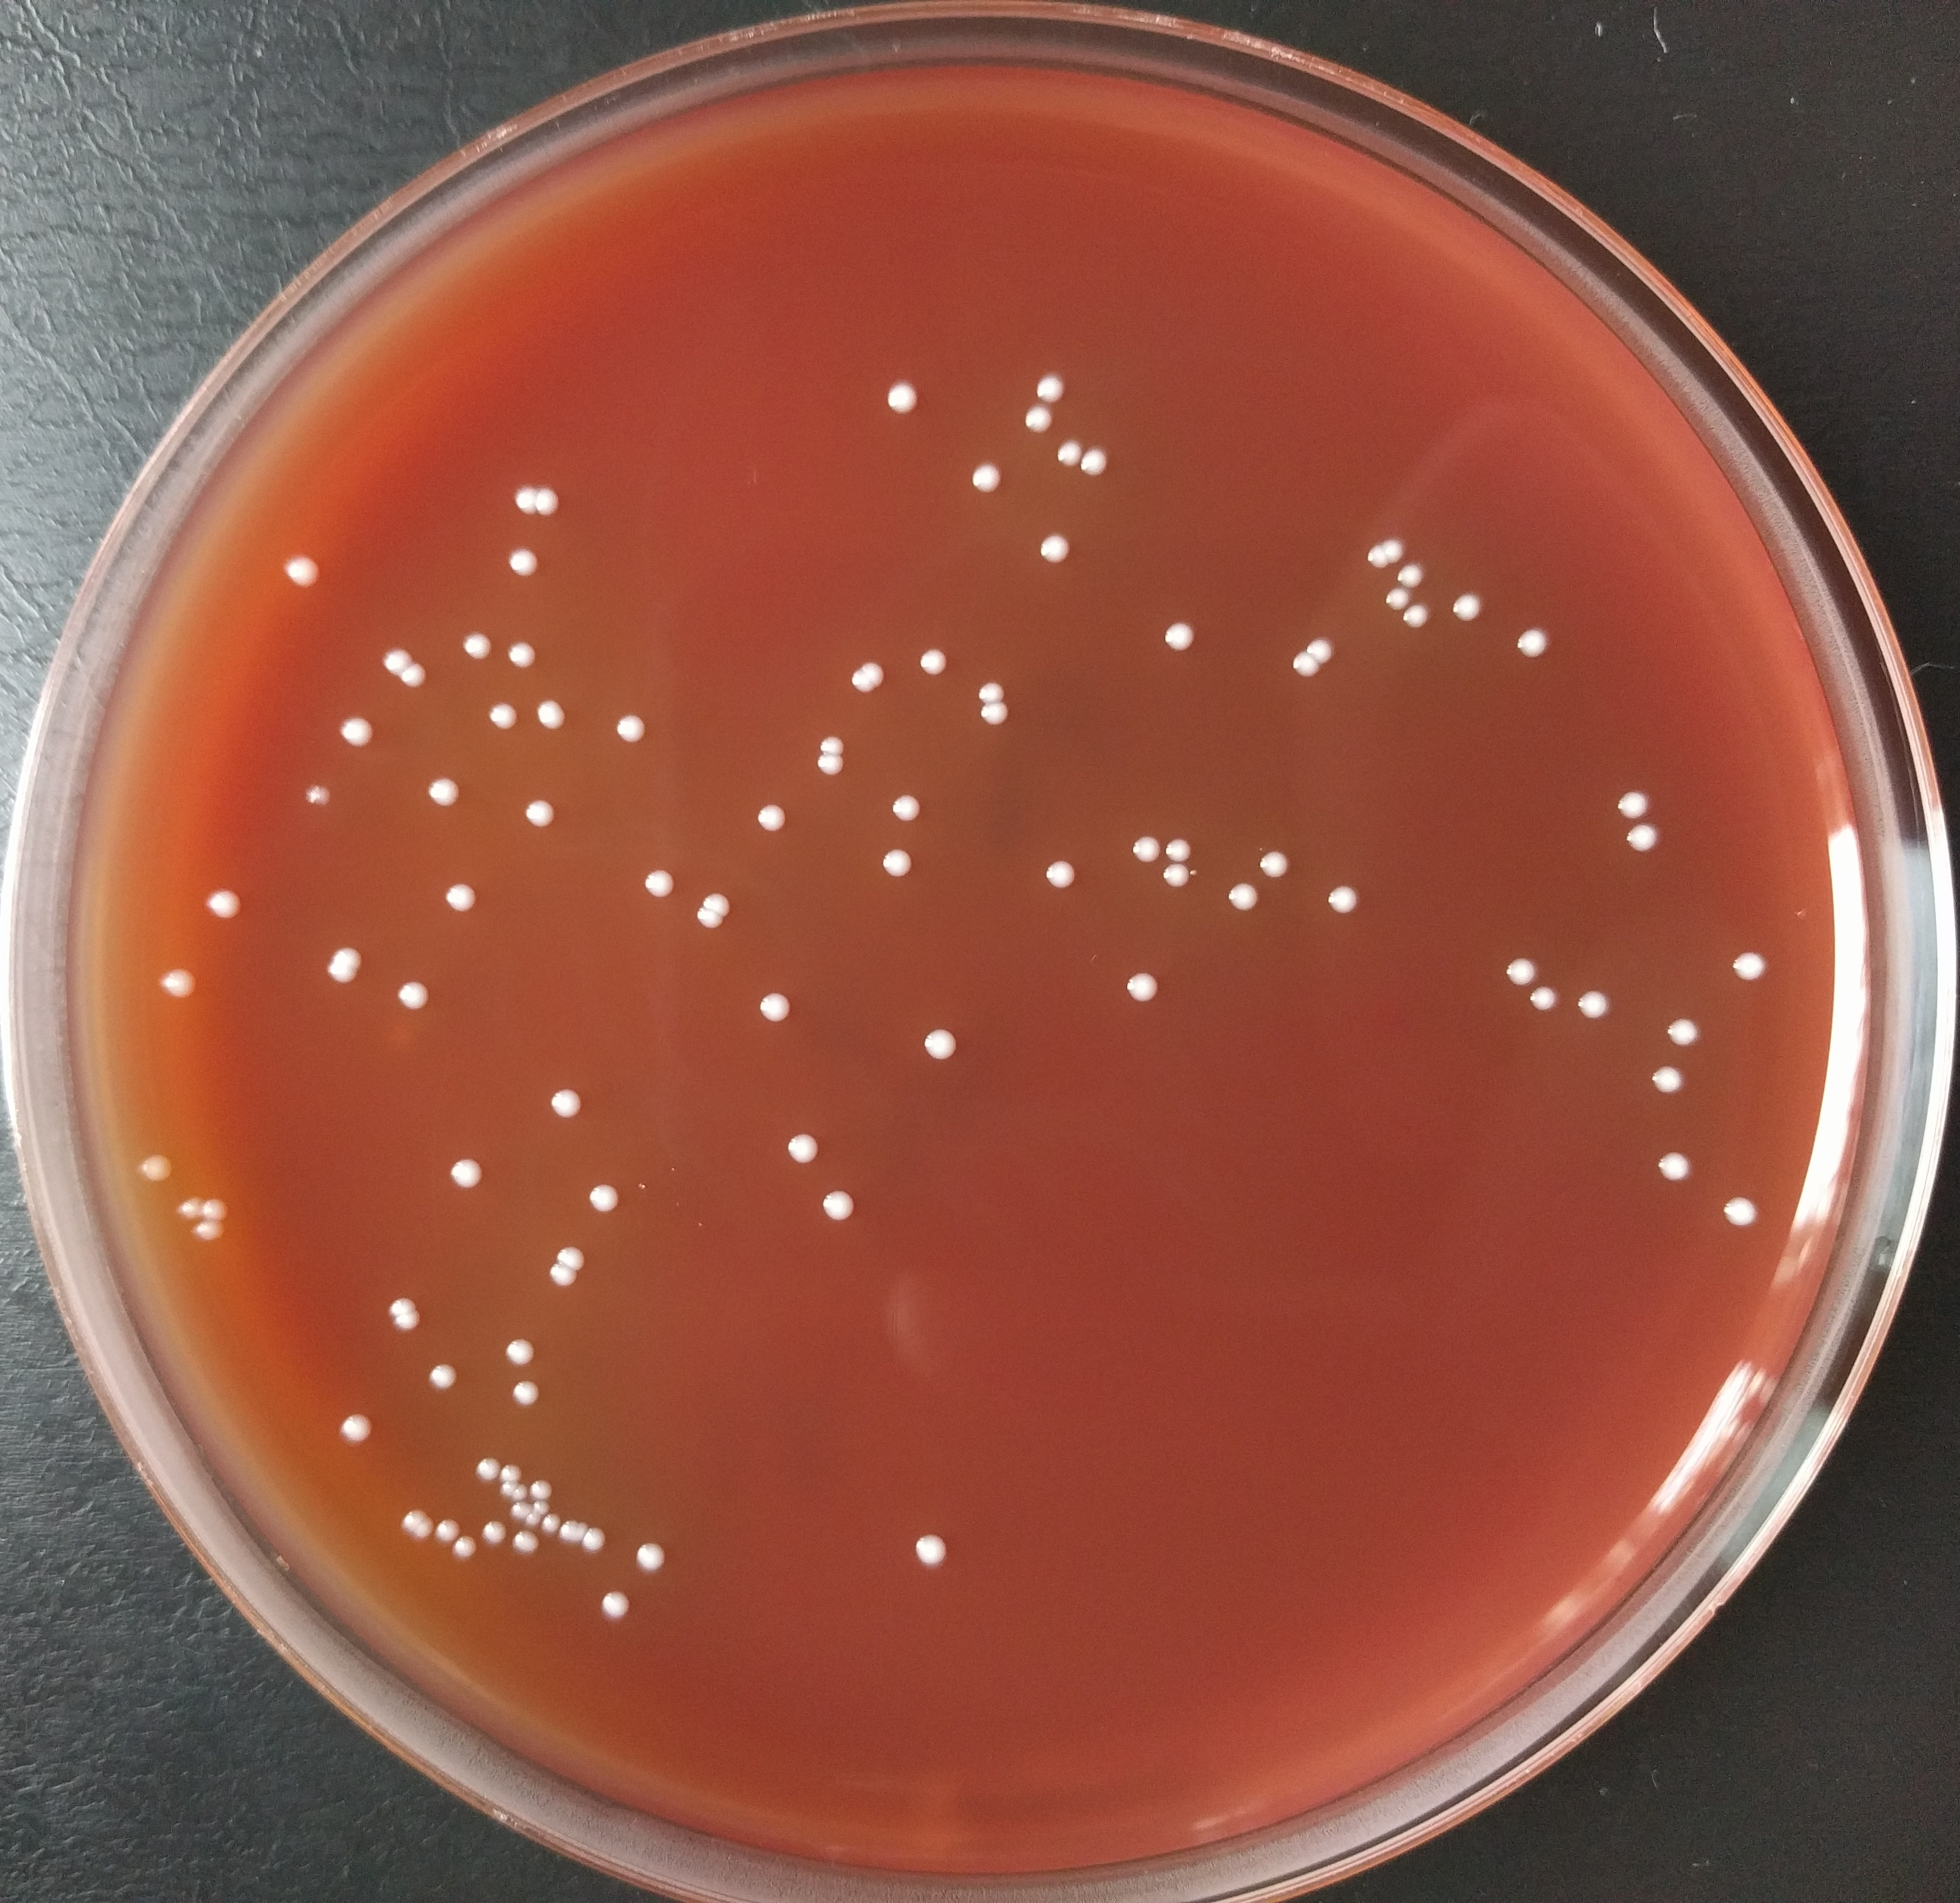sp24: (262, 532, 348, 610), (416, 759, 501, 838), (199, 876, 282, 951), (542, 1069, 616, 1147), (121, 1137, 189, 1217), (119, 955, 215, 1011), (1694, 1158, 1762, 1237), (479, 528, 549, 603), (1635, 1130, 1718, 1191), (506, 780, 577, 848), (467, 1322, 563, 1371), (467, 687, 537, 754), (898, 1520, 971, 1583), (1643, 1053, 1704, 1126), (1640, 1006, 1717, 1062), (401, 1345, 487, 1394), (501, 626, 565, 691), (833, 649, 903, 708), (765, 1128, 845, 1179), (1446, 574, 1500, 647), (581, 1579, 653, 1634), (347, 1268, 429, 1315), (548, 1223, 621, 1275), (959, 448, 1017, 514), (870, 355, 926, 423), (1713, 941, 1785, 993), (324, 705, 375, 778), (436, 1137, 490, 1205), (735, 967, 800, 1023), (438, 619, 501, 675), (1500, 626, 1580, 670), (527, 472, 581, 537), (367, 1298, 441, 1345), (523, 696, 591, 747), (861, 847, 931, 896), (731, 803, 794, 857), (630, 1516, 679, 1585), (959, 658, 1031, 703), (899, 1016, 955, 1074), (1022, 516, 1076, 575), (1027, 355, 1078, 416), (1085, 432, 1134, 495), (1102, 960, 1172, 1004), (1302, 628, 1363, 677), (593, 703, 656, 750), (383, 974, 450, 1018), (1563, 988, 1629, 1032), (973, 696, 1025, 750), (1391, 589, 1446, 642), (898, 637, 962, 680), (497, 1368, 555, 1417), (432, 873, 502, 913), (1603, 778, 1662, 826), (1216, 883, 1270, 934), (558, 1182, 640, 1216), (338, 1405, 385, 1462), (1493, 950, 1557, 992), (492, 467, 541, 521), (285, 777, 341, 824), (534, 1256, 598, 1296), (388, 656, 439, 707), (385, 1494, 436, 1544), (626, 854, 675, 906), (322, 929, 361, 995), (677, 904, 740, 945), (821, 1195, 879, 1238), (586, 1497, 618, 1576), (182, 1216, 236, 1261), (422, 1497, 465, 1553), (359, 628, 416, 670), (1344, 521, 1390, 574), (1615, 820, 1680, 857), (1036, 848, 1078, 904), (885, 782, 938, 826), (1043, 437, 1092, 483), (1521, 983, 1566, 1032), (192, 1184, 242, 1230), (1255, 834, 1298, 885), (796, 752, 859, 787), (1370, 514, 1409, 570), (1383, 546, 1424, 596), (1150, 850, 1200, 890), (1316, 876, 1360, 920), (1153, 624, 1200, 665), (1372, 574, 1412, 621), (700, 864, 738, 913), (159, 1184, 201, 1228), (1279, 645, 1321, 687), (807, 719, 847, 763), (1116, 827, 1164, 864), (474, 1515, 511, 1560), (444, 1530, 481, 1574), (1148, 836, 1200, 866), (1020, 409, 1059, 450), (464, 1445, 504, 1483), (490, 1445, 523, 1485), (509, 1527, 539, 1569), (555, 1515, 581, 1546), (528, 1471, 556, 1499), (507, 1501, 534, 1527), (544, 1515, 565, 1541), (520, 1511, 542, 1530), (528, 1501, 558, 1515), (507, 1487, 527, 1508), (497, 1478, 513, 1499)
